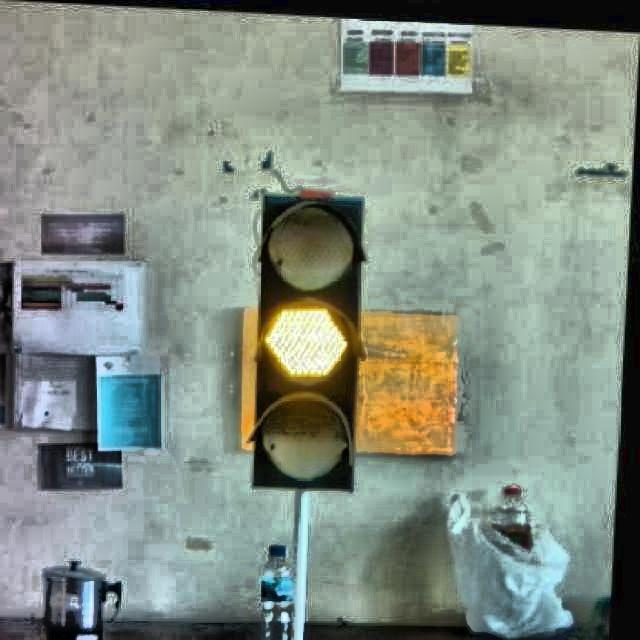yellow: (256, 185, 356, 492)
